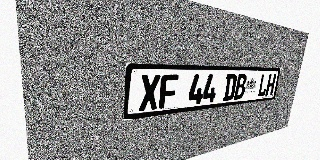4: (188, 74, 205, 105), (202, 74, 218, 104)
B: (234, 74, 247, 100)
D: (223, 74, 237, 101)
F: (159, 75, 179, 109)
H: (265, 74, 276, 96)
L: (257, 74, 269, 97)
X: (139, 75, 160, 111)
